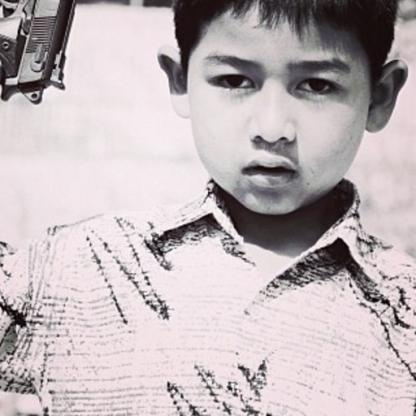gun: (0, 0, 109, 108)
